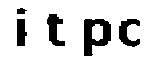c: (117, 16, 145, 49)
i: (9, 4, 34, 52)
p: (79, 16, 112, 60)
t: (43, 11, 68, 51)
